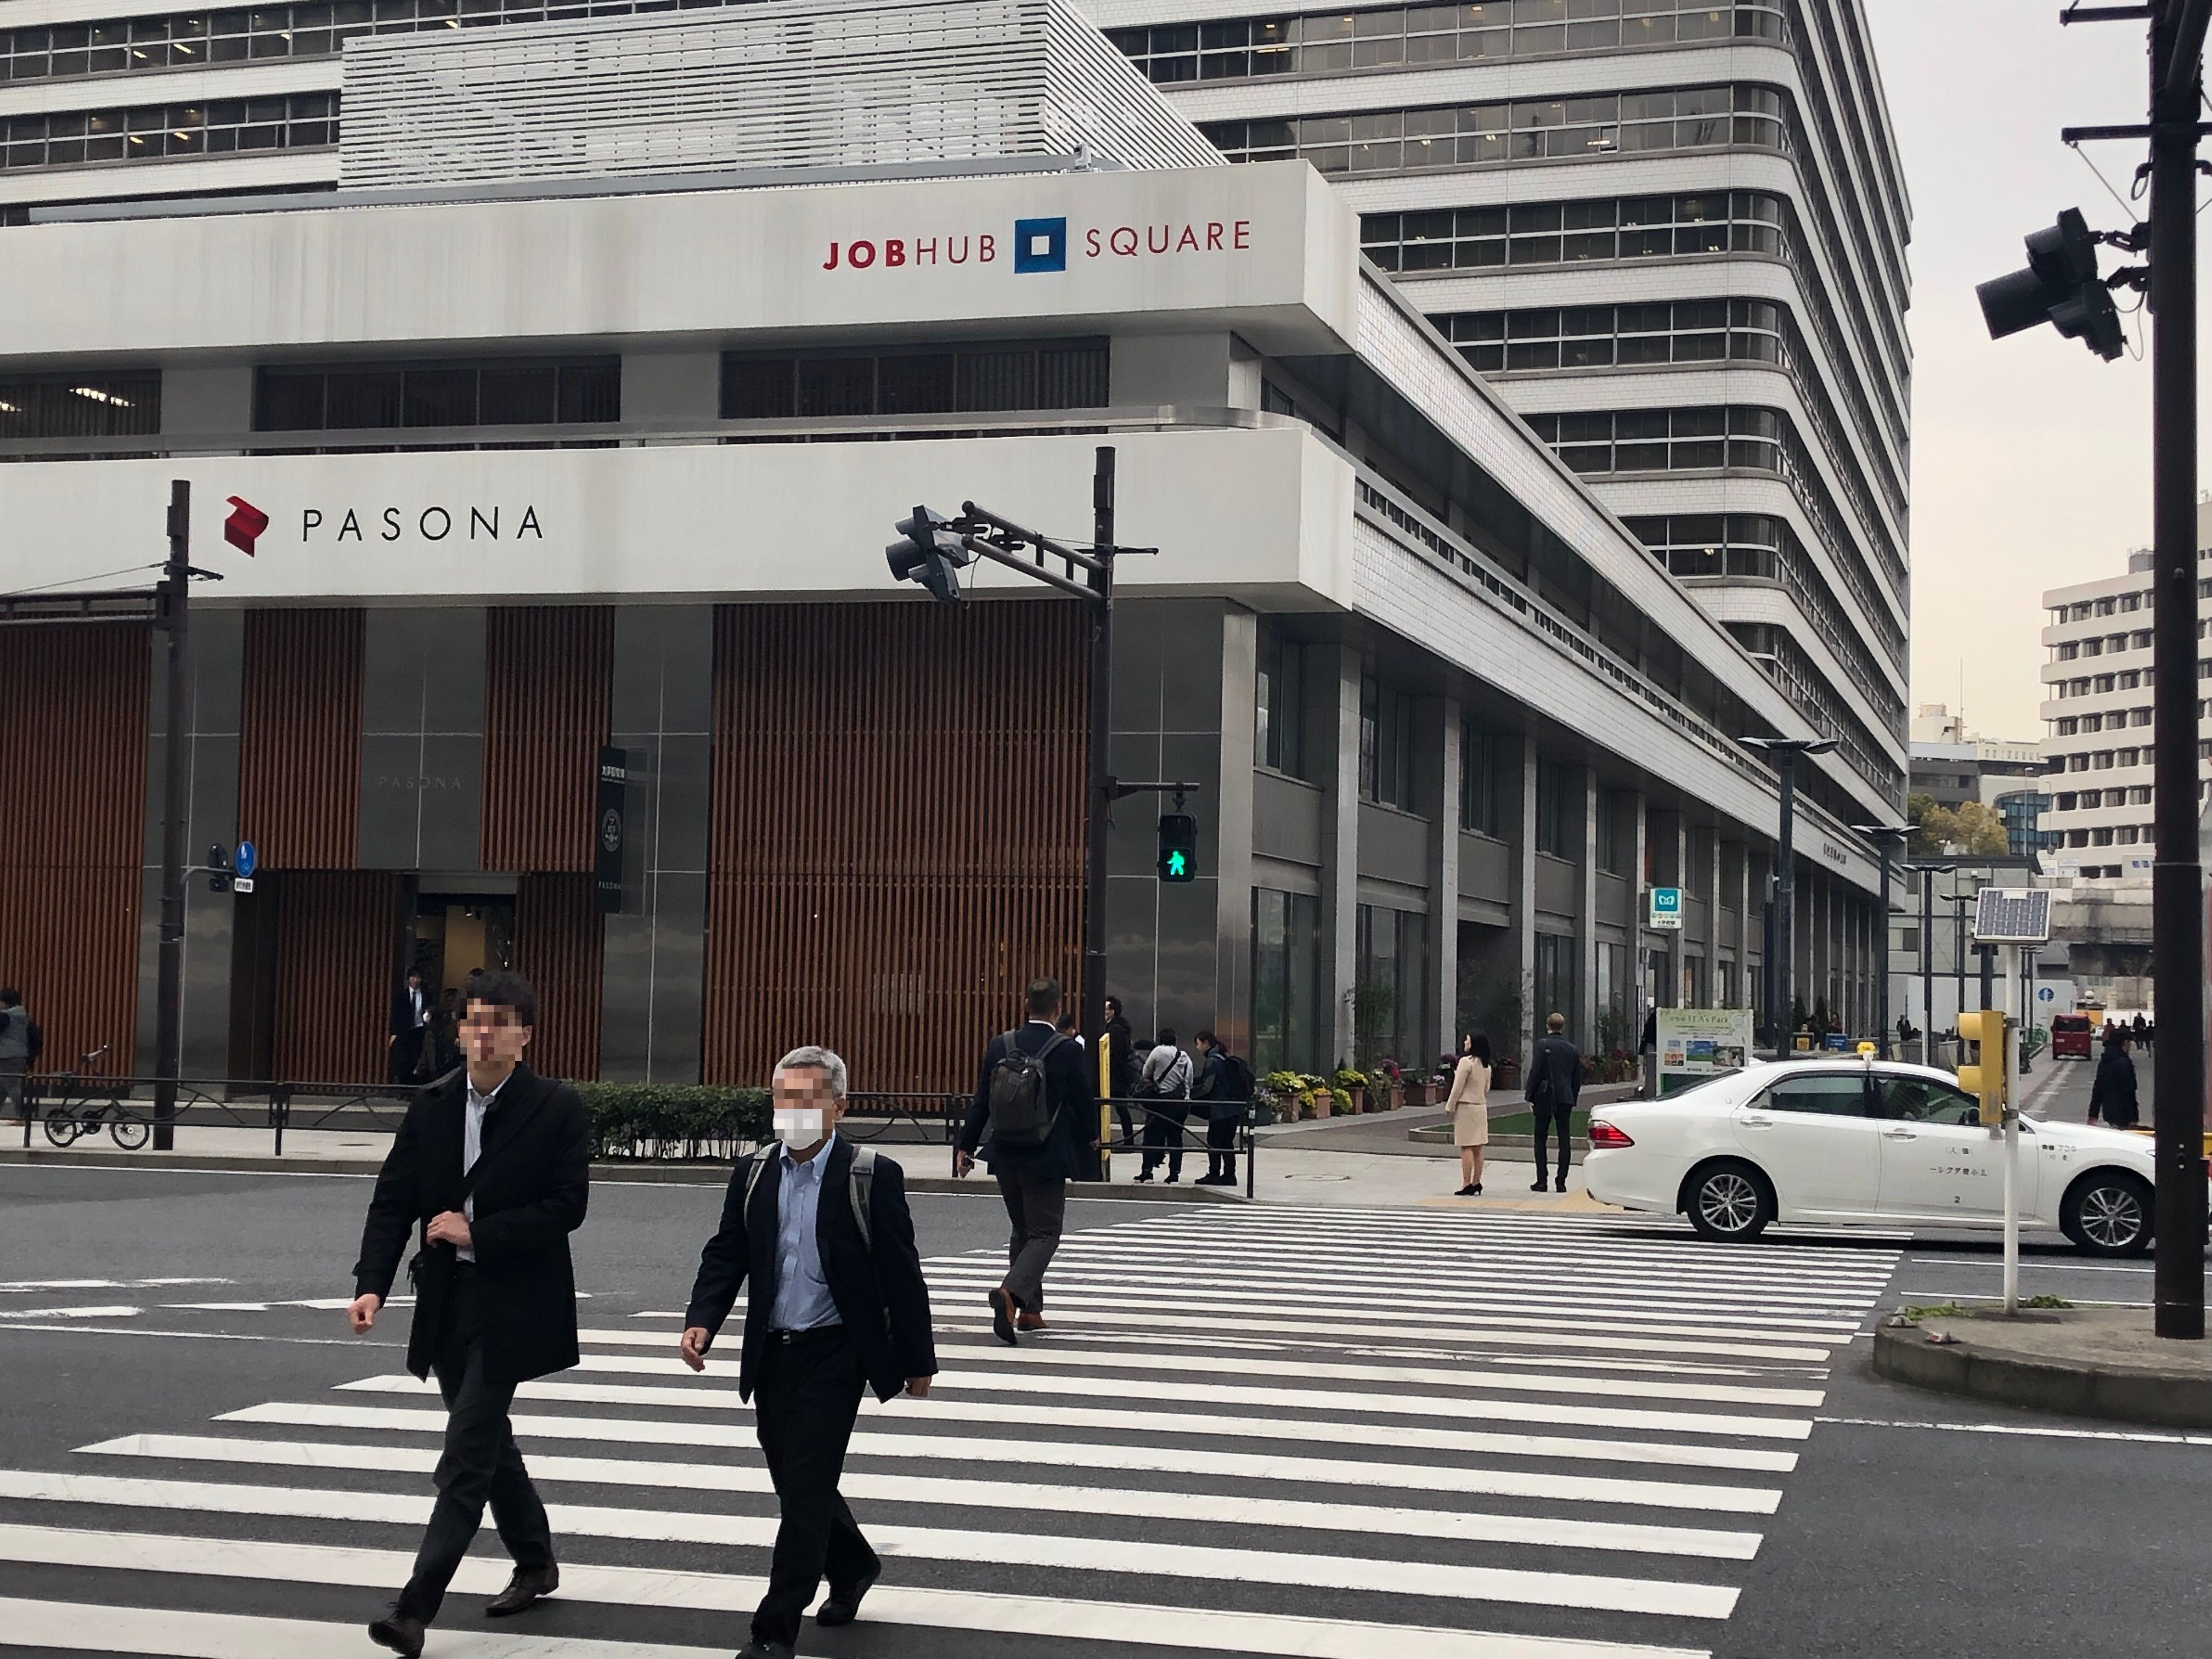car: (1586, 1051, 2153, 1257)
person: (339, 971, 601, 1659), (679, 1044, 945, 1659), (956, 982, 1092, 1355), (1524, 1013, 1586, 1197), (1134, 1030, 1195, 1190), (1194, 1033, 1255, 1192), (1446, 1032, 1494, 1200)
